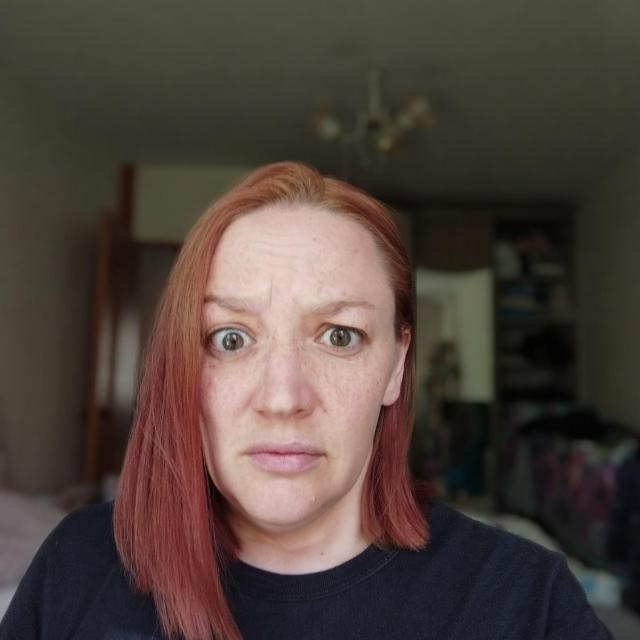surprised: (124, 119, 406, 568)
